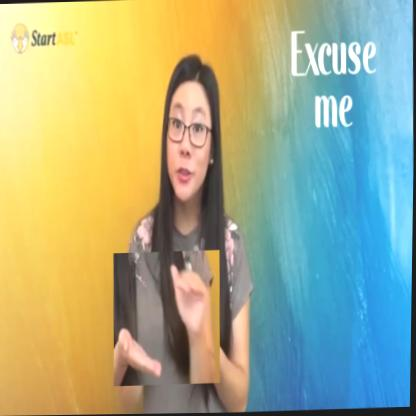ExcuseMe: (112, 250, 223, 386)
